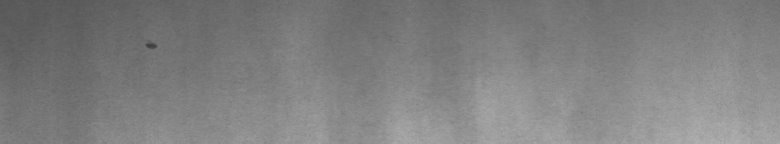fi: (145, 36, 158, 56)
